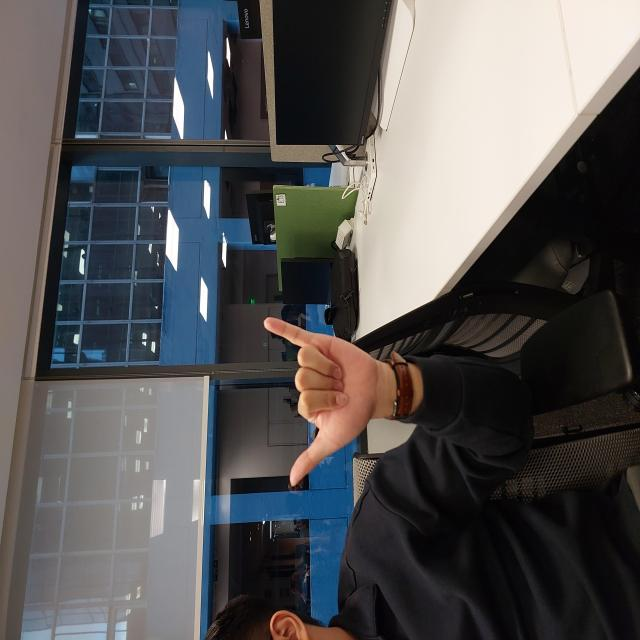Y: (154, 262, 323, 374)
